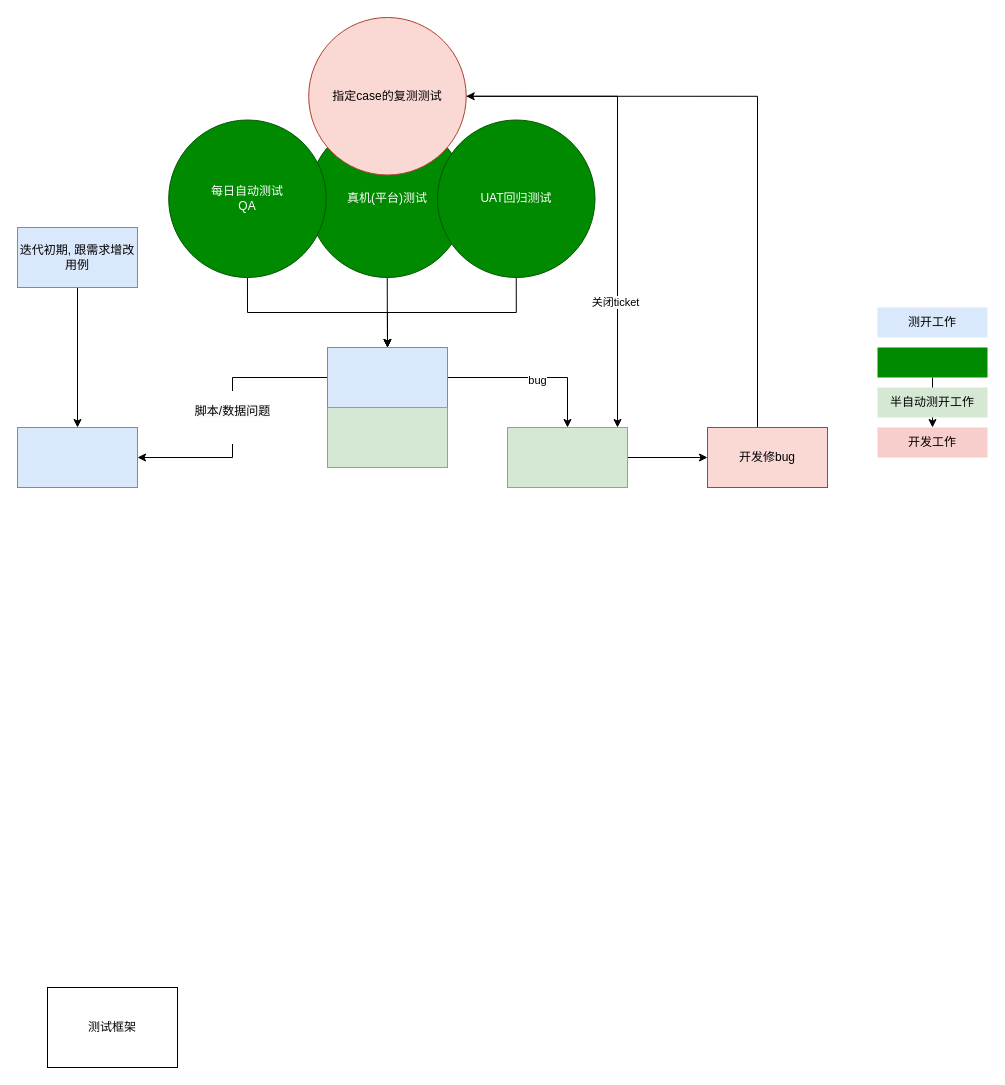
Some shapes in this 1005 by 1085 pixel diagram are drawn without their labels. Each missing label, with the box of its shape:
UI分析: (326, 406, 448, 468)
分析问题: (326, 346, 448, 408)
建ticket: (506, 426, 628, 488)
维护脚本,让脚本更稳定, 健壮: (16, 426, 138, 488)
自动化实现: (877, 347, 987, 377)
